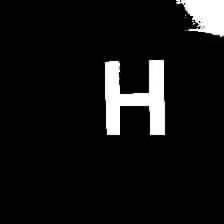LTR_H: (98, 47, 169, 141)
